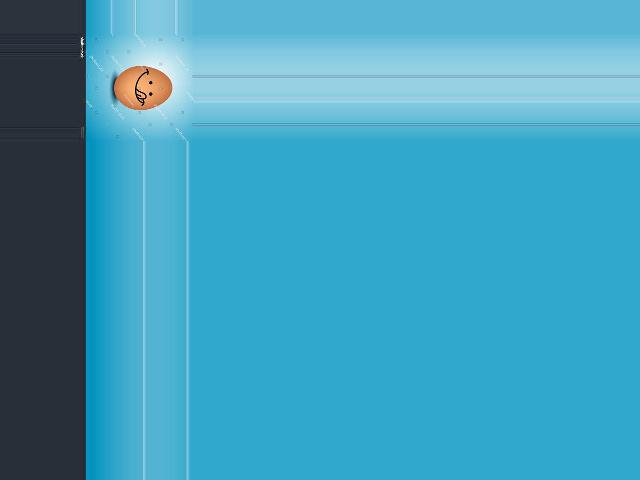egg: (114, 66, 172, 110)
